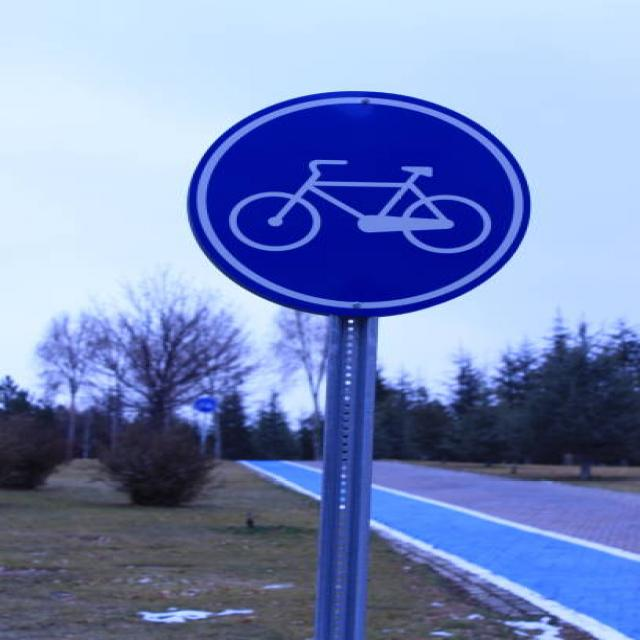bicycle: (173, 84, 535, 321)
